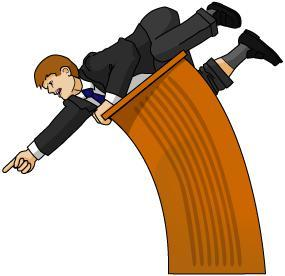person: (1, 1, 283, 180)
